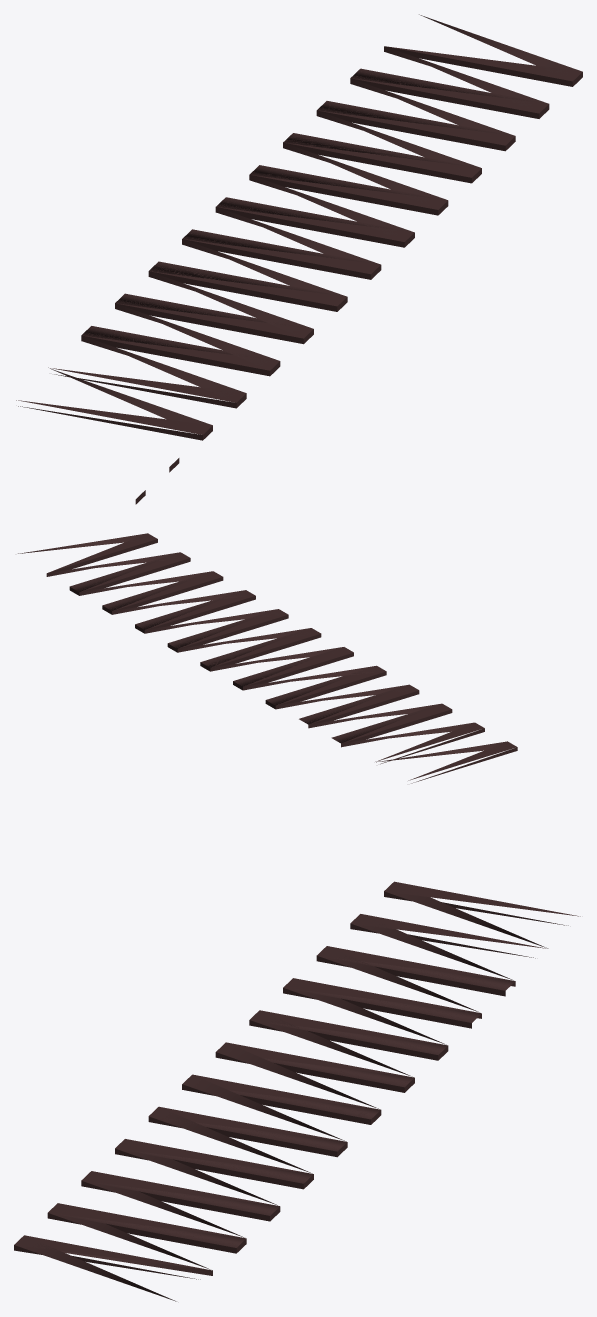
The picture shows the model from 3 angles, top to bottom: view 1: azimuth 90°, elevation 25°; view 2: azimuth 150°, elevation 25°; view 3: azimuth 270°, elevation 25°; orthographic projection. The views are drawn at different scales.
Size of the model in its own units: 11.87 by 0.064 by 5.88.
